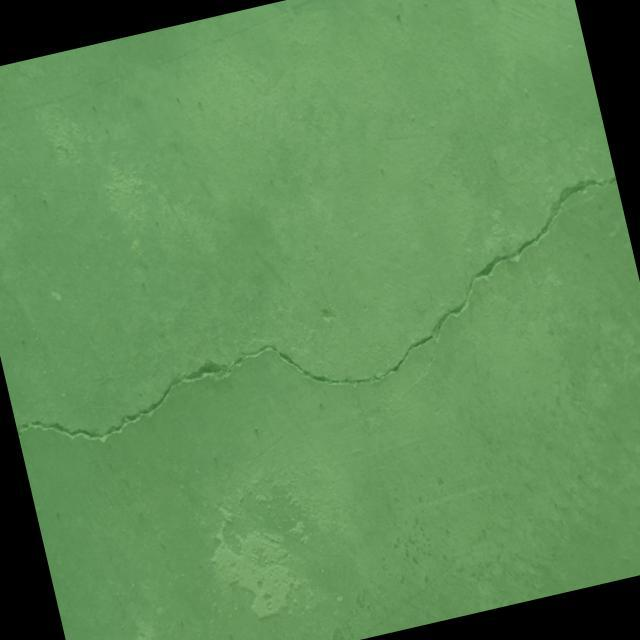crack: (0, 170, 640, 477)
